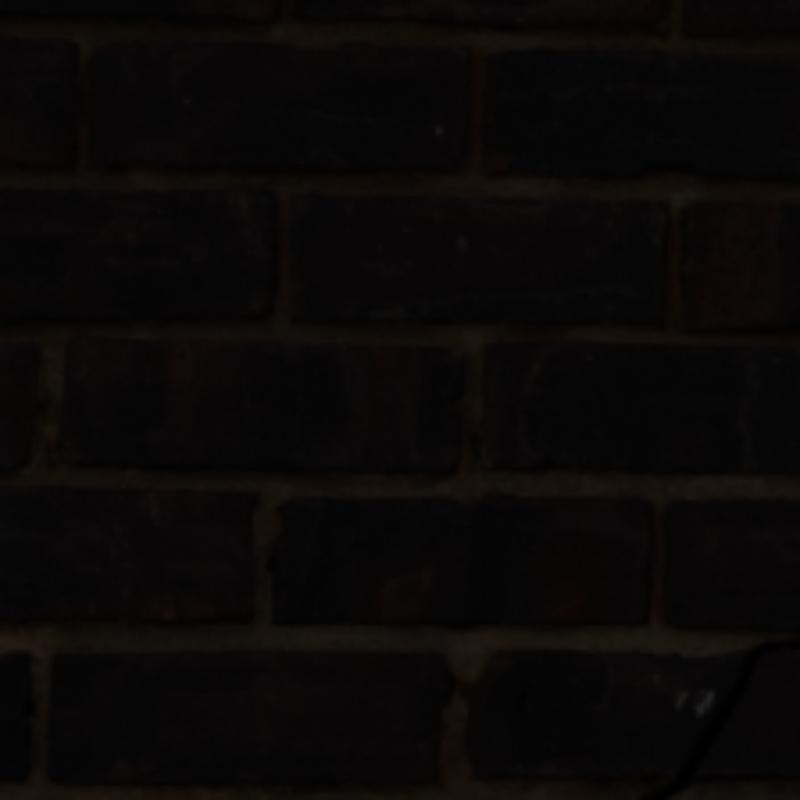pothole: (643, 639, 796, 796), (454, 679, 479, 704)
